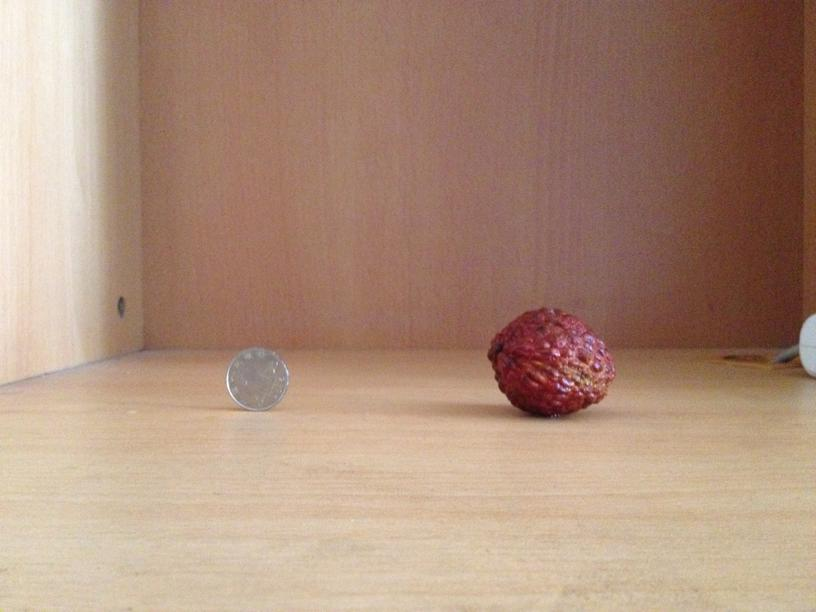coin: (223, 345, 291, 410)
litchi: (486, 306, 613, 415)
